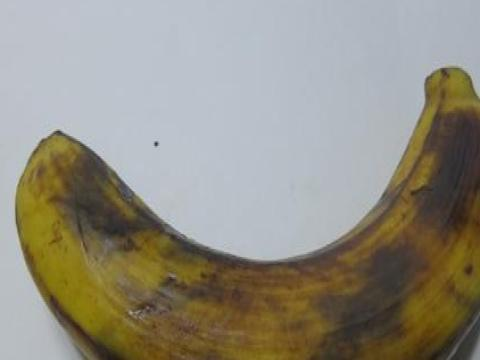overripe: (5, 57, 479, 359)
